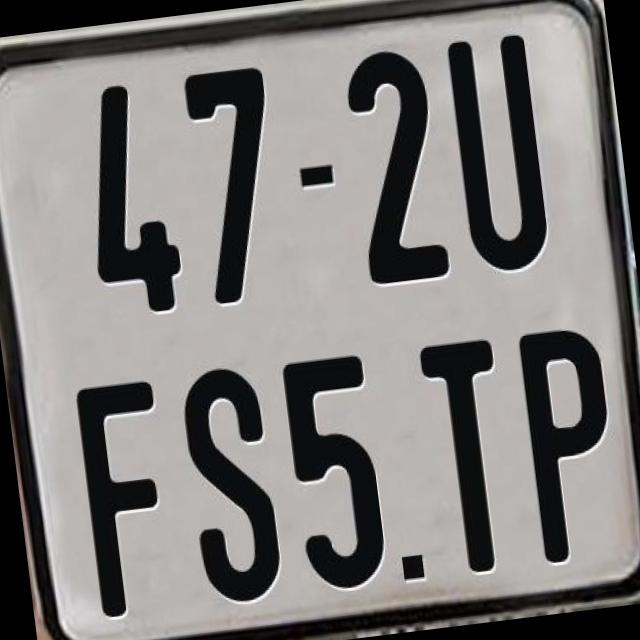2: (342, 45, 453, 286)
4: (71, 78, 185, 324)
5: (279, 354, 392, 597)
7: (180, 66, 292, 311)
F: (71, 378, 182, 618)
P: (513, 320, 624, 567)
S: (174, 362, 284, 605)
T: (416, 333, 518, 571)
U: (446, 33, 558, 280)
